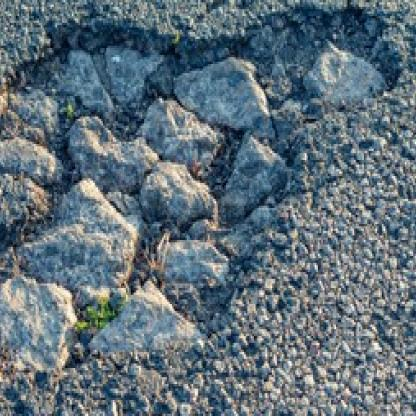pothole: (0, 0, 400, 373)
